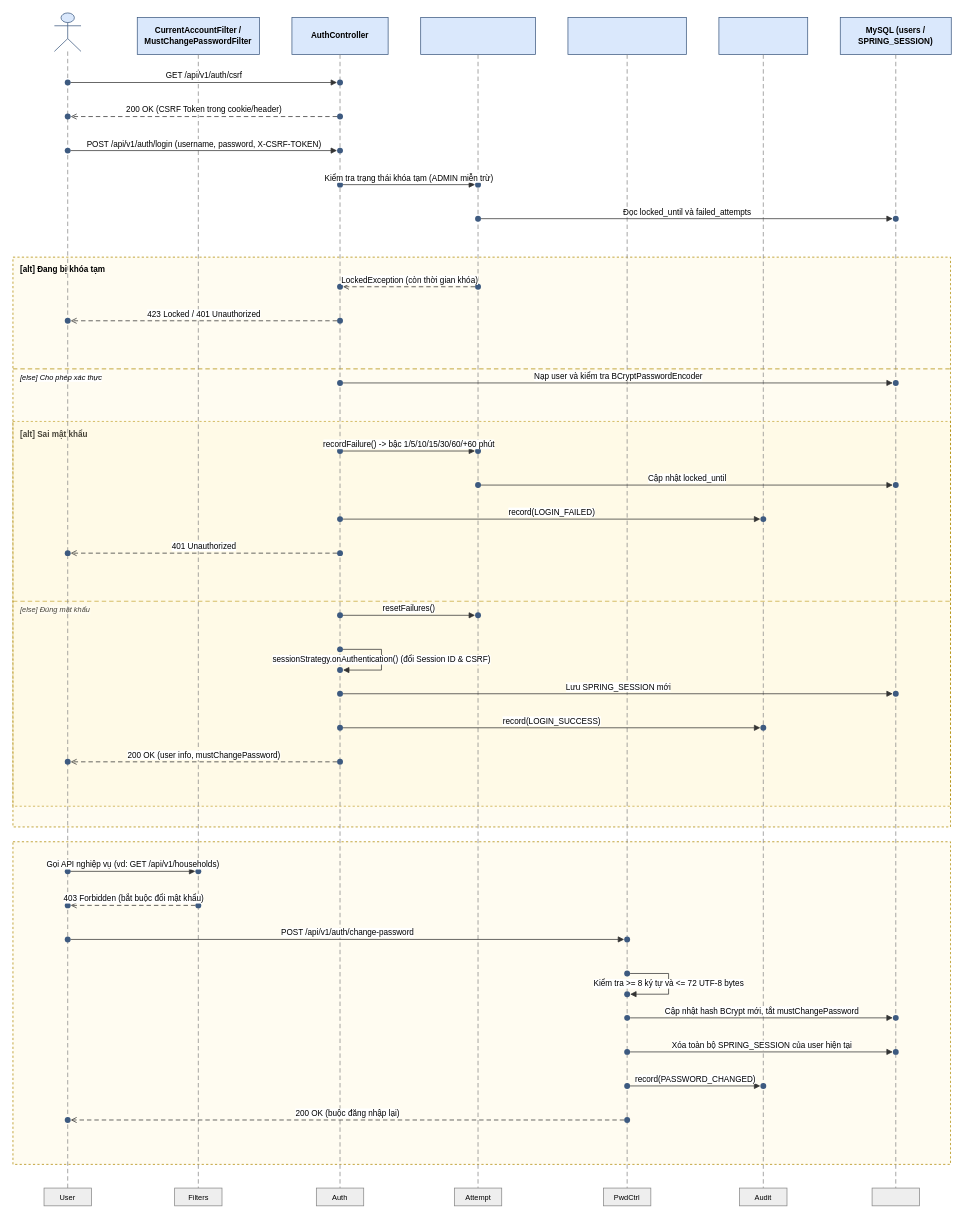
Some shapes in this 964 by 1219 pixel diagram are drawn without their labels. Each missing label, with the box of its shape:
[opt] Tài khoản có mustChangePassword = true: (12, 841, 951, 1164)
AuditService: (718, 17, 808, 54)
DB: (871, 1187, 919, 1206)
LoginAttemptService & LoginLockPolicy: (420, 17, 535, 54)
Người dùng (SPA): (54, 12, 81, 51)
PasswordController & PasswordChangeService: (567, 17, 686, 54)
